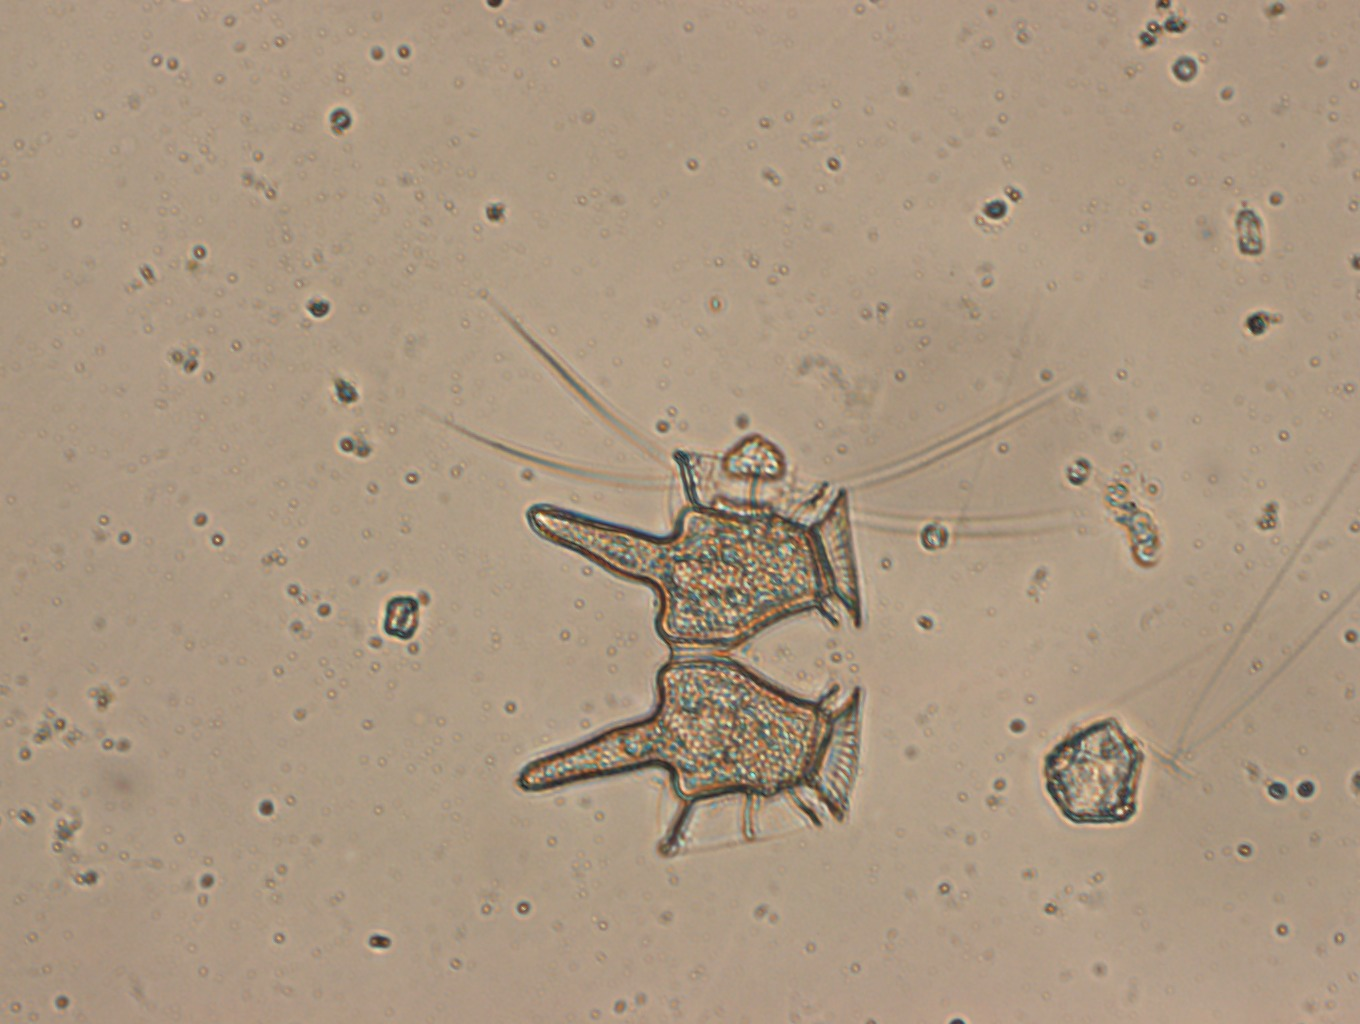dinophysis caudata: (516, 451, 863, 858)
